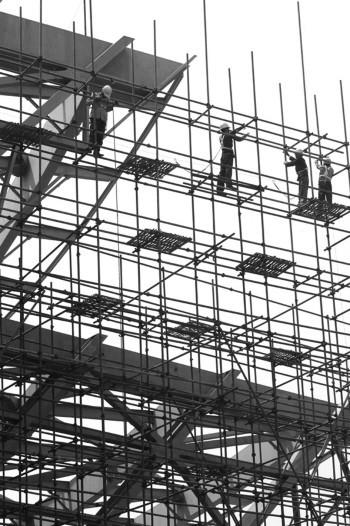helmet: (103, 86, 114, 100), (324, 157, 333, 167), (220, 124, 231, 132), (295, 148, 305, 156)
